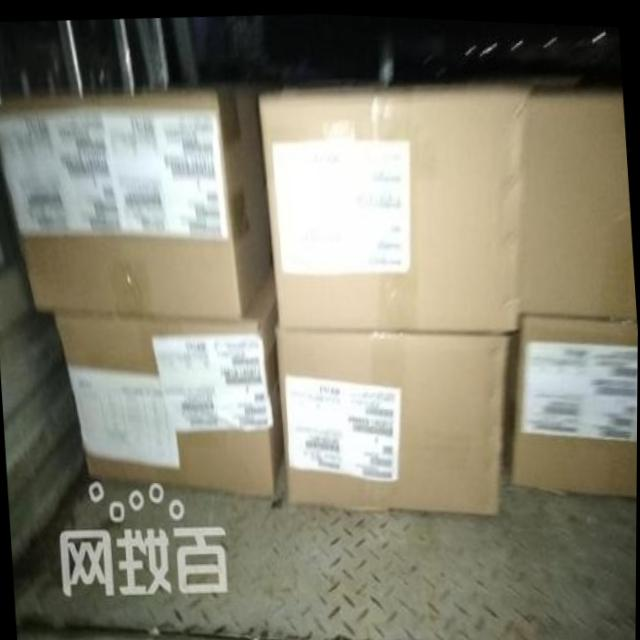box: (258, 75, 530, 327), (0, 79, 272, 318), (54, 267, 284, 494), (276, 325, 508, 510), (522, 70, 637, 314), (504, 309, 638, 492)
